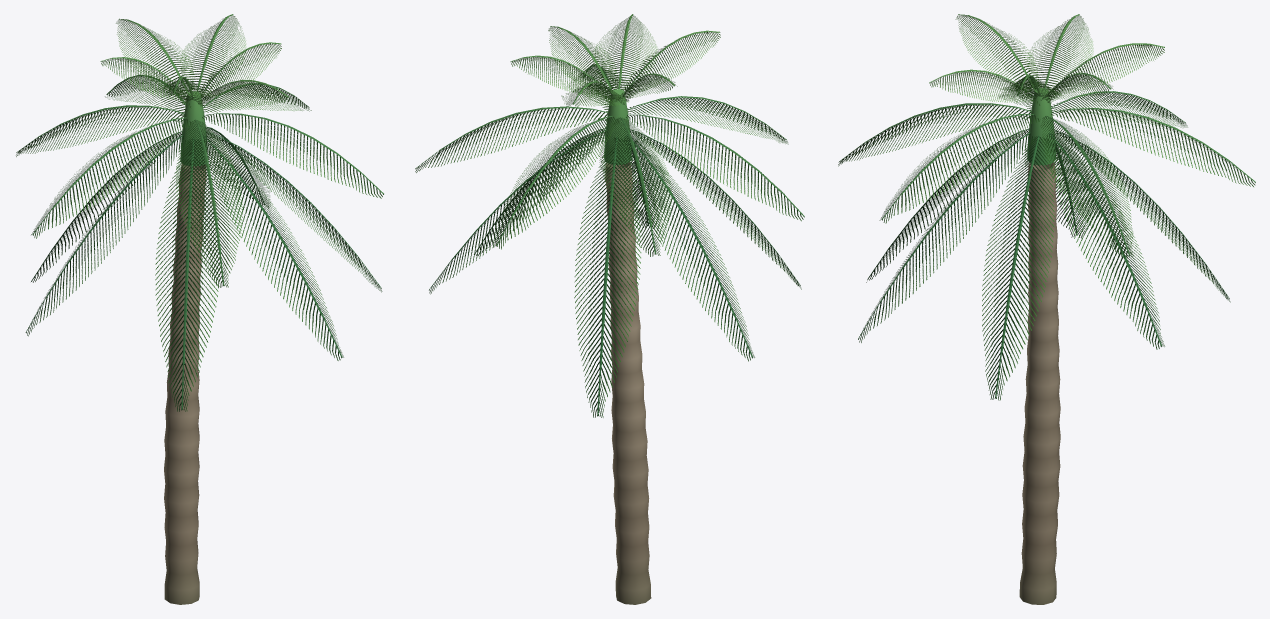
Rendered from palm_11.gltf.
3 views of the same model, side by side, from view 1: azimuth 30°, elevation 25°; view 2: azimuth 150°, elevation 25°; view 3: azimuth 270°, elevation 25° (orthographic). The views are drawn at different scales.
Visible parts, largest first — view 1: PalmFronds, PalmTrunk; view 2: PalmFronds, PalmTrunk; view 3: PalmFronds, PalmTrunk.
Part boxes in pixels (bbox=[...]): PalmFronds: bbox=[16, 14, 383, 411]; PalmTrunk: bbox=[164, 91, 207, 604]; PalmFronds: bbox=[415, 14, 804, 417]; PalmTrunk: bbox=[604, 89, 651, 604]; PalmFronds: bbox=[838, 14, 1255, 400]; PalmTrunk: bbox=[1019, 88, 1060, 604].
Size of what is drawn, in the model's own units: 7.49 by 11.52 by 7.78.
2 materials, 1 textured.
